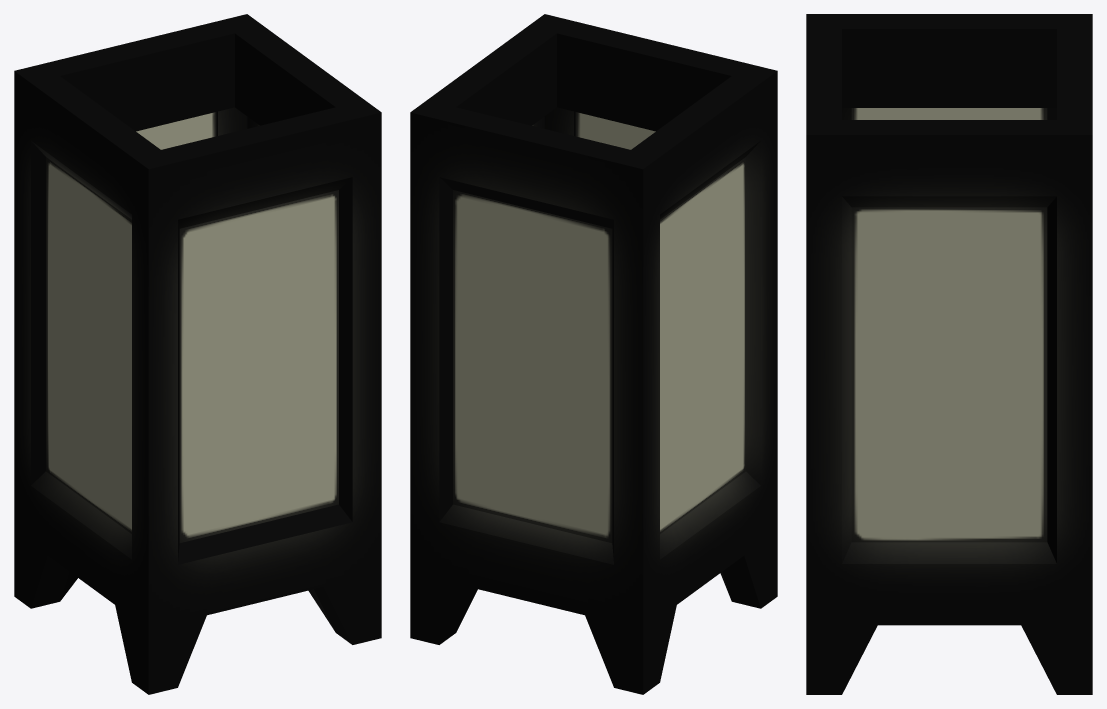
The model's file is Bedside_lamp.fbx.
3 renders of one model, left to right at view 1: azimuth 30°, elevation 25°; view 2: azimuth 150°, elevation 25°; view 3: azimuth 270°, elevation 25°, orthographic. The views are drawn at different scales.
Parts seen in each view (by area): view 1: Bedside_lamp; view 2: Bedside_lamp; view 3: Bedside_lamp.
Part boxes in pixels (x1=…): Bedside_lamp: x1=14, y1=14, x2=381, y2=694; Bedside_lamp: x1=410, y1=14, x2=777, y2=694; Bedside_lamp: x1=806, y1=14, x2=1092, y2=694.
Size of the model in its own units: 19.97 by 43.05 by 19.97.
Materials: 1 (1 with a texture image).
